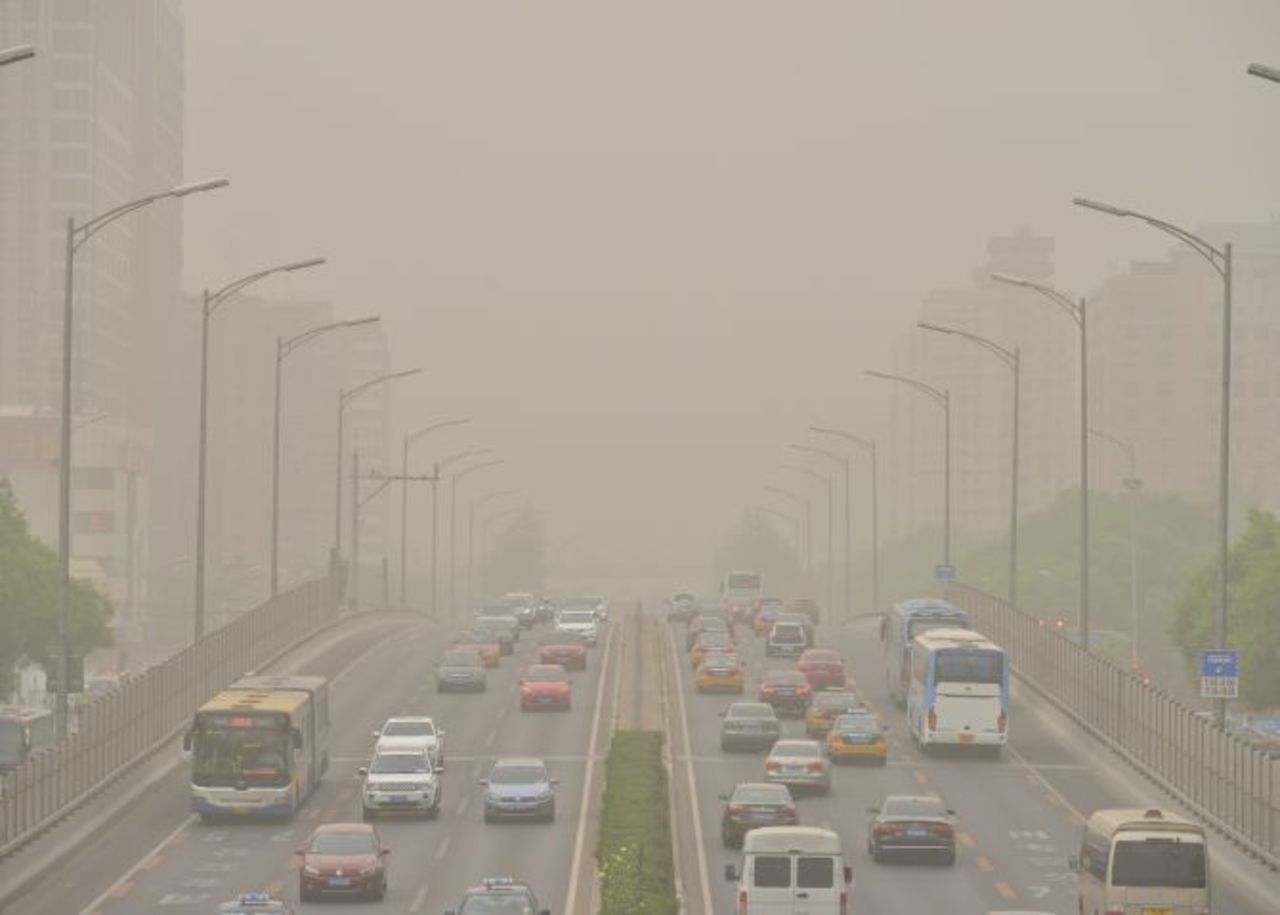bus: (189, 672, 332, 822), (1072, 801, 1210, 911), (900, 622, 1001, 748), (878, 598, 962, 695), (719, 565, 760, 609)
car: (719, 827, 853, 911), (298, 823, 390, 903), (865, 799, 961, 865), (717, 782, 801, 852), (360, 748, 442, 817), (480, 758, 558, 823), (761, 738, 832, 797), (826, 711, 888, 766), (447, 880, 547, 914), (719, 701, 781, 754), (373, 709, 445, 753), (516, 664, 572, 713), (432, 648, 485, 696), (755, 668, 808, 708), (696, 650, 742, 689), (798, 644, 843, 683), (804, 689, 848, 728), (552, 606, 597, 642), (540, 629, 586, 662), (454, 627, 496, 660), (470, 620, 514, 650), (477, 609, 519, 637), (768, 621, 802, 653), (687, 614, 722, 644), (665, 584, 694, 616), (751, 601, 780, 627)
